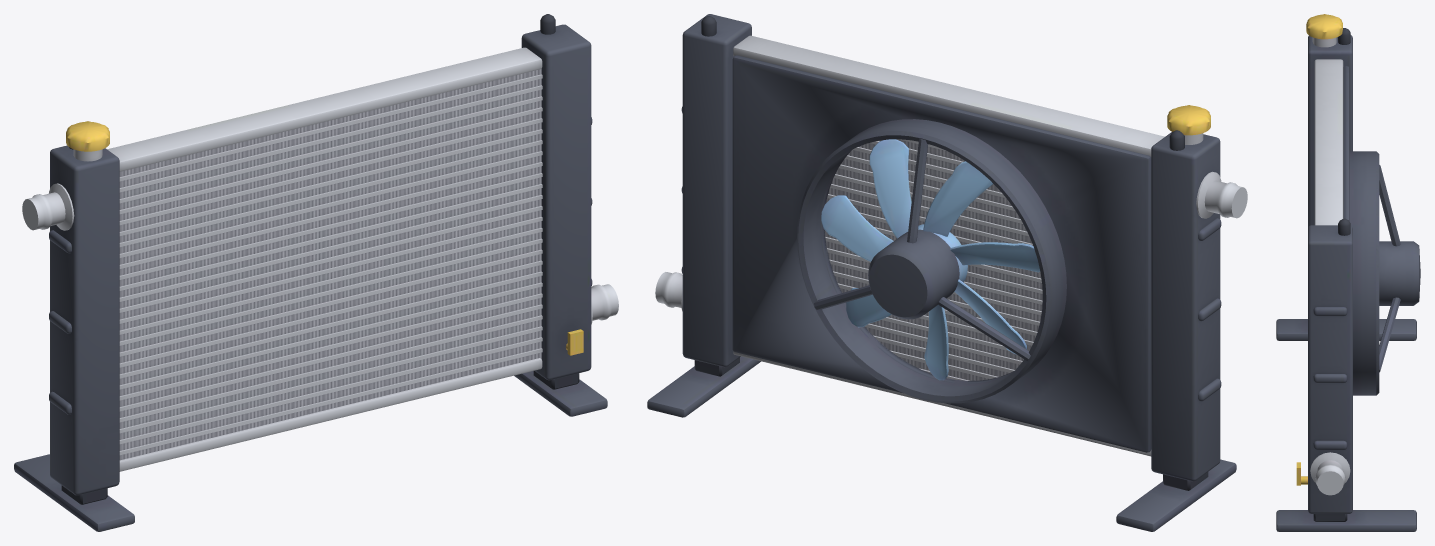
File: car-radiator.glb
The picture shows the model from 3 angles, left to right: view 1: azimuth 30°, elevation 25°; view 2: azimuth 150°, elevation 25°; view 3: azimuth 270°, elevation 25°; orthographic projection. The views are drawn at different scales.
Parts seen in each view (by area): view 1: car-radiator_body; view 2: car-radiator_body; view 3: car-radiator_body.
Part boxes in pixels (x1,y1,x2,y2): car-radiator_body: [14, 14, 618, 531]; car-radiator_body: [647, 14, 1247, 531]; car-radiator_body: [1276, 14, 1420, 531].
Size of the model in its own units: 0.79 by 0.493 by 0.2055.
1 material, 1 textured.
